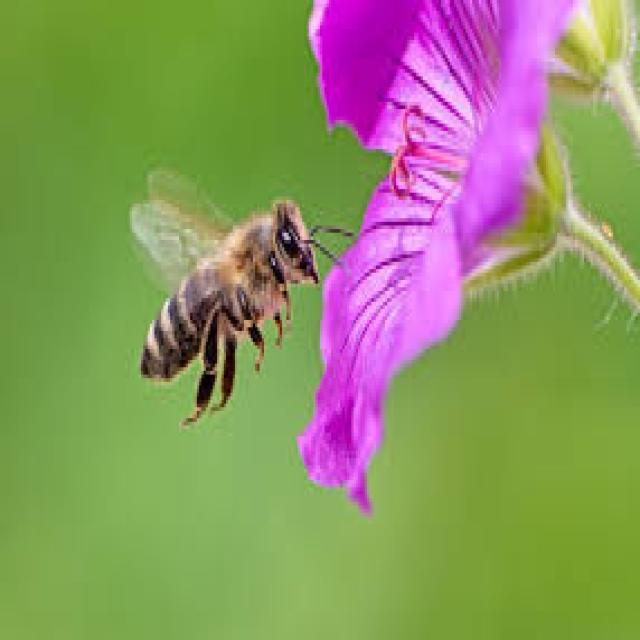Bees: (127, 168, 356, 429)
